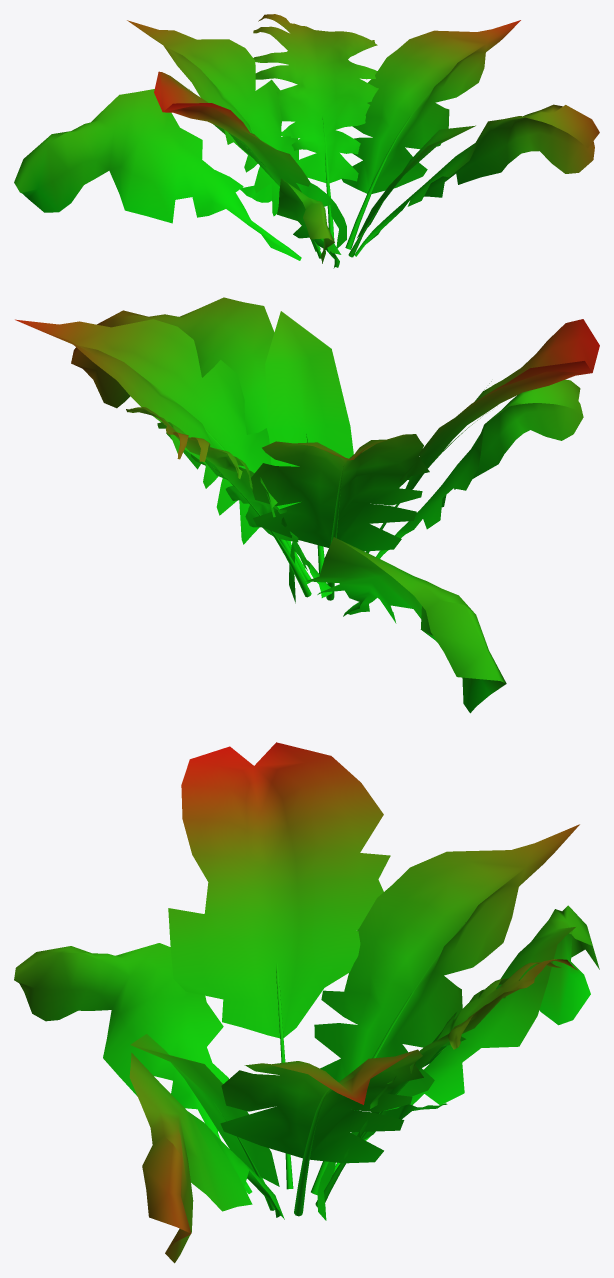
Rendered from Lady Fern_LOD0_Var10_wdvlditia.fbx.
3 renders of one model, top to bottom at view 1: azimuth 30°, elevation 25°; view 2: azimuth 150°, elevation 25°; view 3: azimuth 270°, elevation 25°, orthographic. The views are drawn at different scales.
Parts seen in each view (by area): view 1: _ika2_Var10_LOD0; view 2: _ika2_Var10_LOD0; view 3: _ika2_Var10_LOD0.
Part boxes in pixels (x1,y1,x2,y2): _ika2_Var10_LOD0: (14, 14, 599, 268); _ika2_Var10_LOD0: (15, 297, 599, 713); _ika2_Var10_LOD0: (14, 742, 599, 1263).
Bounding box in the file's own units: 44.83 × 21.01 × 33.09.
